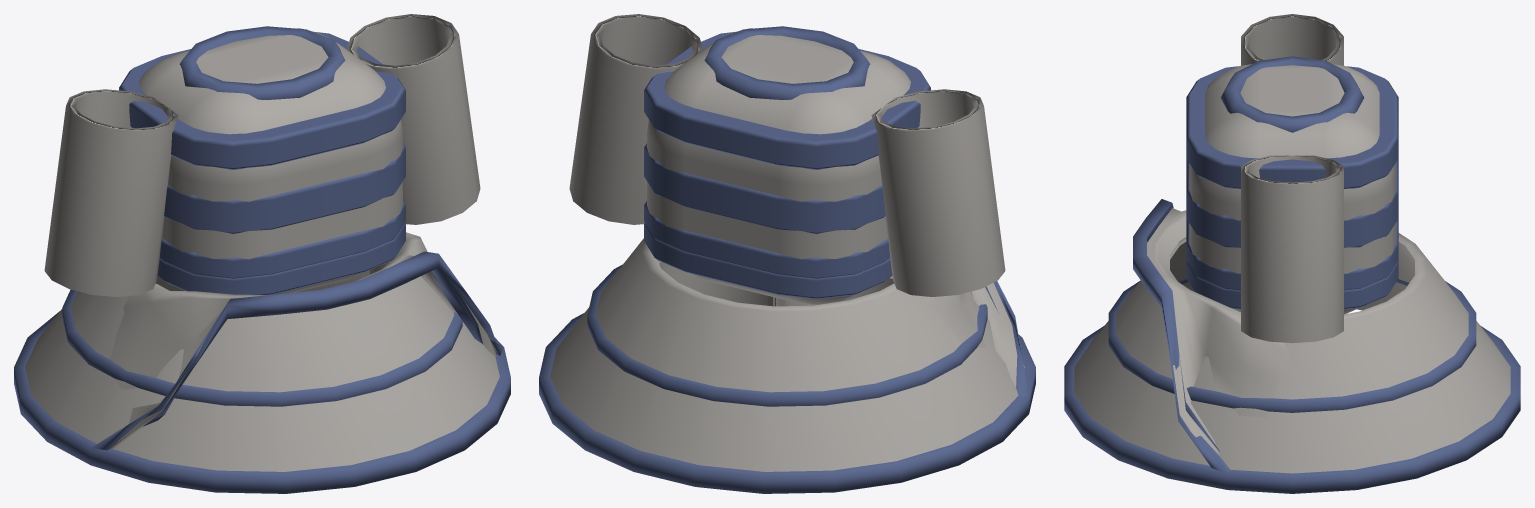
Rendered from bohemian_tunic_dress.glb.
3 views of the same model, side by side, from view 1: azimuth 30°, elevation 25°; view 2: azimuth 150°, elevation 25°; view 3: azimuth 270°, elevation 25° (orthographic). The views are drawn at different scales.
Parts seen in each view (by area): view 1: bohemian_tunic_dress_Body, bohemian_tunic_dress_Body_sit, bohemian_tunic_dress_ArmL, bohemian_tunic_dress_ArmR; view 2: bohemian_tunic_dress_Body, bohemian_tunic_dress_Body_sit, bohemian_tunic_dress_ArmL, bohemian_tunic_dress_ArmR, bohemian_tunic_dress_LegR_sit; view 3: bohemian_tunic_dress_Body, bohemian_tunic_dress_Body_sit, bohemian_tunic_dress_ArmR, bohemian_tunic_dress_ArmL.
Part boxes in pixels (left/top/right/bottom): bohemian_tunic_dress_Body: left=14, top=26, right=510, bottom=493; bohemian_tunic_dress_Body_sit: left=91, top=32, right=503, bottom=450; bohemian_tunic_dress_ArmL: left=44, top=89, right=178, bottom=296; bohemian_tunic_dress_ArmR: left=347, top=14, right=480, bottom=224; bohemian_tunic_dress_Body: left=539, top=26, right=1035, bottom=493; bohemian_tunic_dress_Body_sit: left=644, top=32, right=1028, bottom=396; bohemian_tunic_dress_ArmL: left=871, top=89, right=1005, bottom=296; bohemian_tunic_dress_ArmR: left=569, top=14, right=702, bottom=224; bohemian_tunic_dress_LegR_sit: left=657, top=260, right=777, bottom=306; bohemian_tunic_dress_Body: left=1064, top=56, right=1520, bottom=493; bohemian_tunic_dress_Body_sit: left=1133, top=66, right=1414, bottom=473; bohemian_tunic_dress_ArmR: left=1241, top=155, right=1343, bottom=343; bohemian_tunic_dress_ArmL: left=1241, top=14, right=1343, bottom=65.
Size of the model in its own units: 0.648 by 0.5289 by 0.6414.
